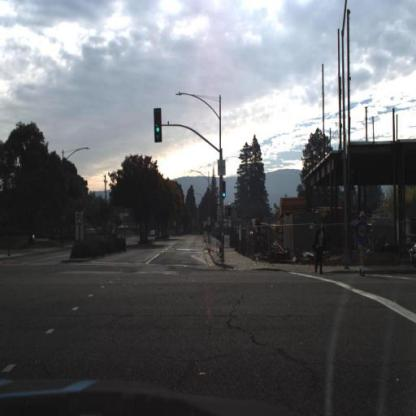car: (149, 226, 159, 240)
pedestrian: (354, 212, 371, 277), (313, 222, 327, 276)
trafficLight-Green: (153, 106, 163, 142), (223, 180, 229, 198)
